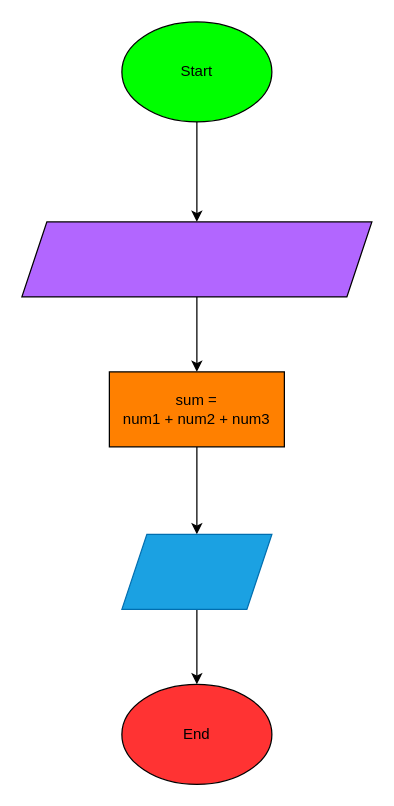
Image size: 394x806. Some labels were removed from this diagram. The shapes that lost their labels are listed below. From the top down, each one's centre as x and y in pixels, then its label:
At (x=196, y=259): "Read: num1, num2, num3".
At (x=196, y=571): "Print: sum".
